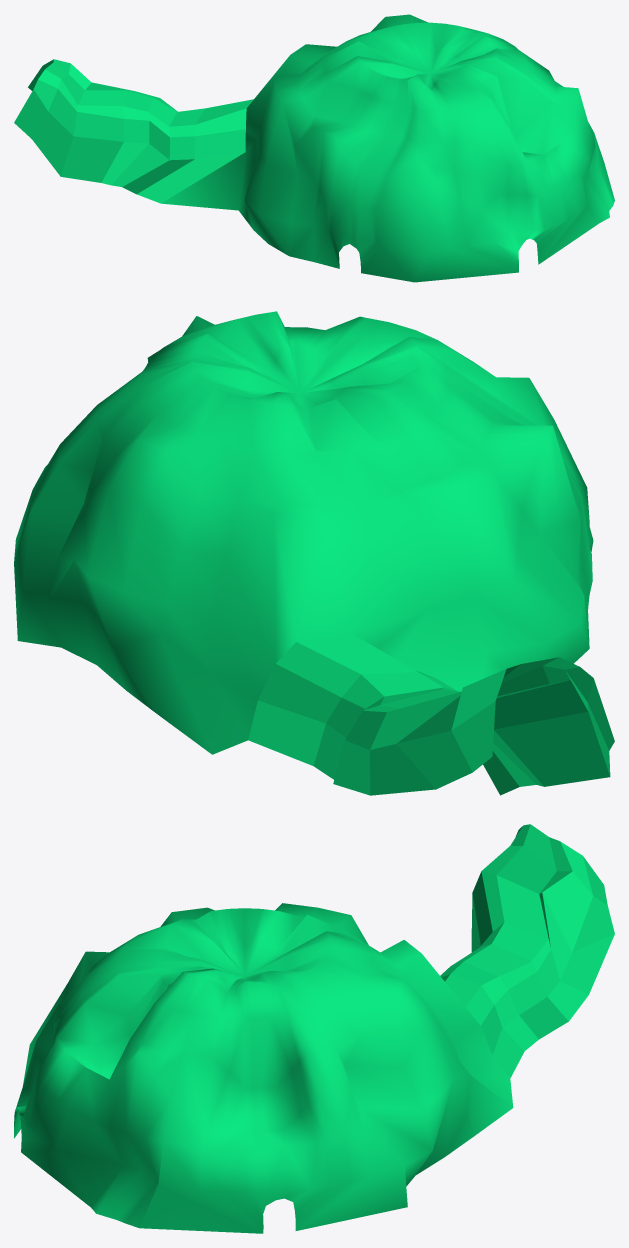
Rendered from cave__type02_withtunnels.FBX.
The picture shows the model from 3 angles, top to bottom: view 1: azimuth 30°, elevation 25°; view 2: azimuth 150°, elevation 25°; view 3: azimuth 270°, elevation 25°; orthographic projection. The views are drawn at different scales.
Visible parts, largest first — view 1: tha_DOOOOOMMEE004; view 2: tha_DOOOOOMMEE004; view 3: tha_DOOOOOMMEE004.
Boxes of the visible parts, x1,y1,x2,y2 form: tha_DOOOOOMMEE004: (14, 14, 614, 282); tha_DOOOOOMMEE004: (14, 311, 614, 795); tha_DOOOOOMMEE004: (14, 824, 614, 1233).
Size of the model in its own units: 22.76 by 7.56 by 20.62.
